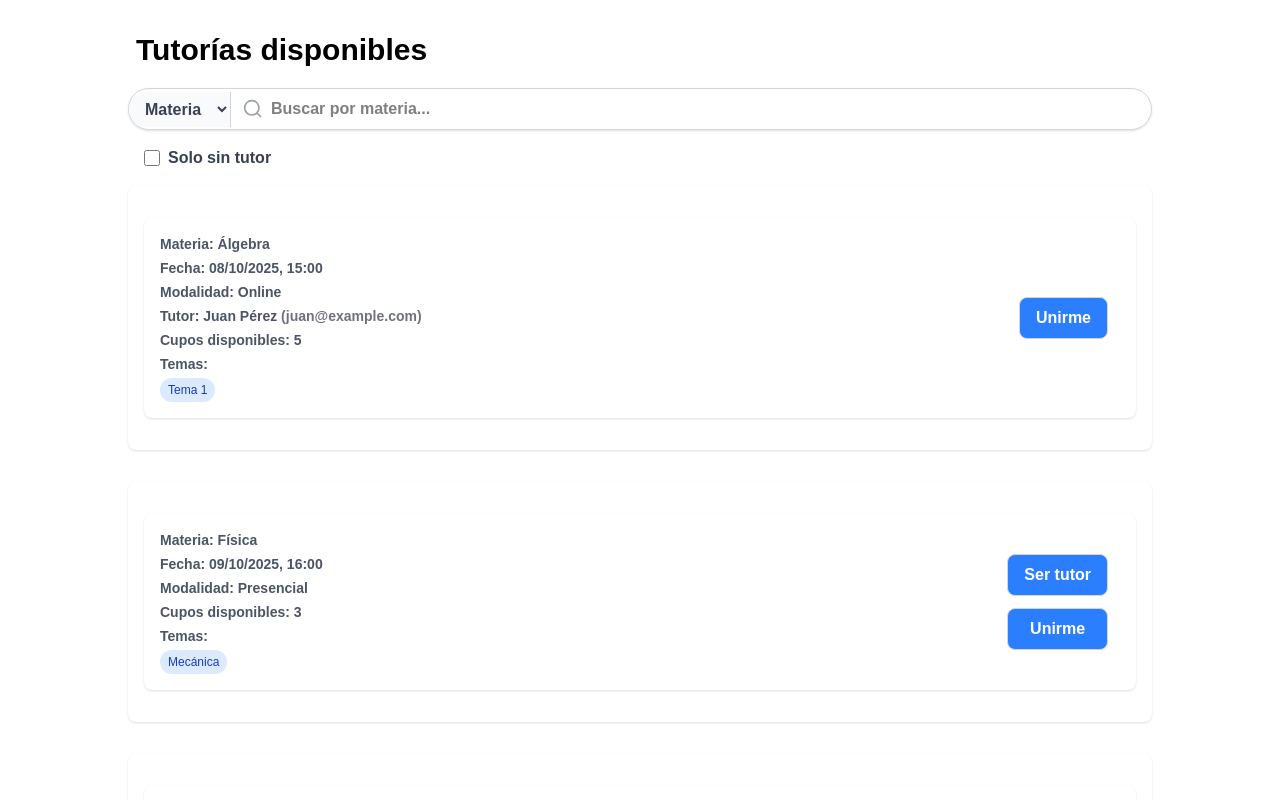
Test: TutoringPage - Filtros y búsqueda › filtra por tema correctamente
The width and height of the screenshot is (1280, 800).
Select "Tema" in the dropdown named "Buscar por" at (180, 109), box [129,92,231,126]
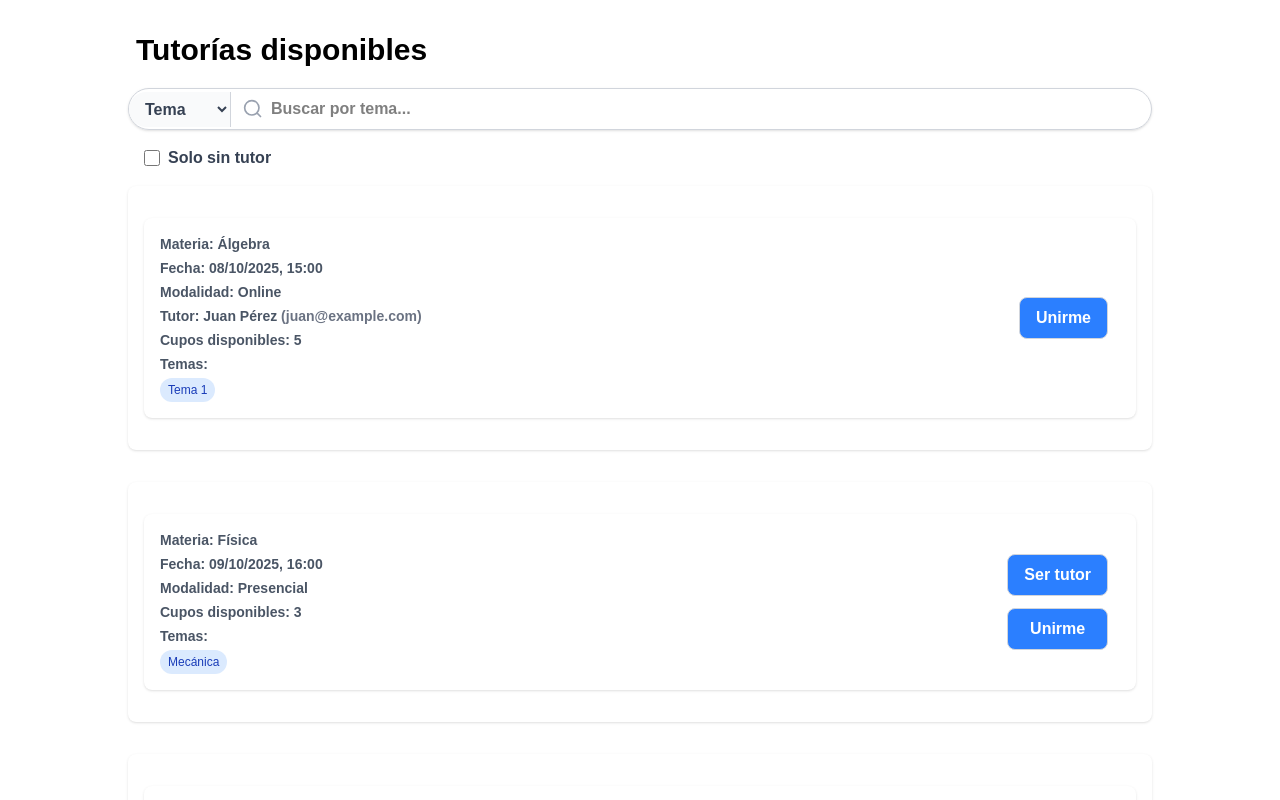
Type "Tema 1" into the field with placeholder "Buscar por tema..." at (691, 109), box [231,89,1151,129]
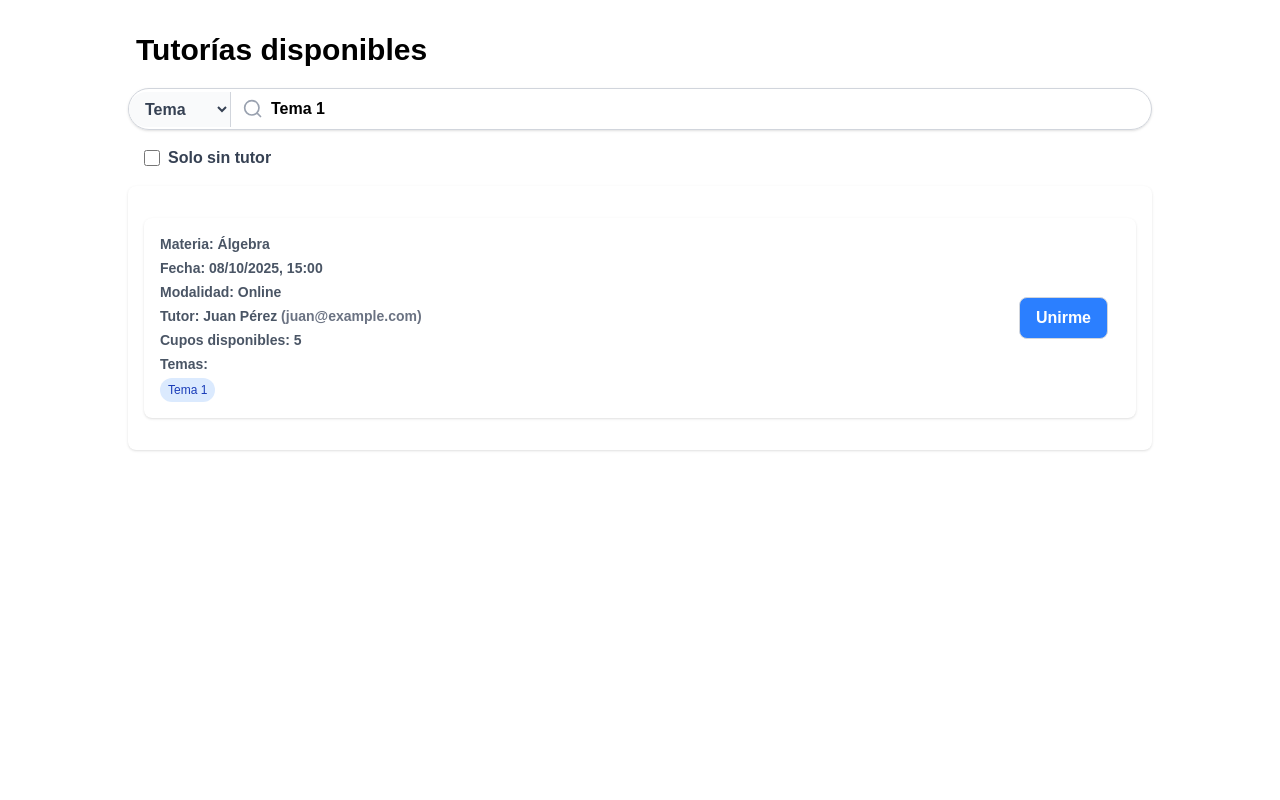
expect the text "Materia: Álgebra" is shown: met, box [160,236,270,252]
expect the button "Física" is gone: met
